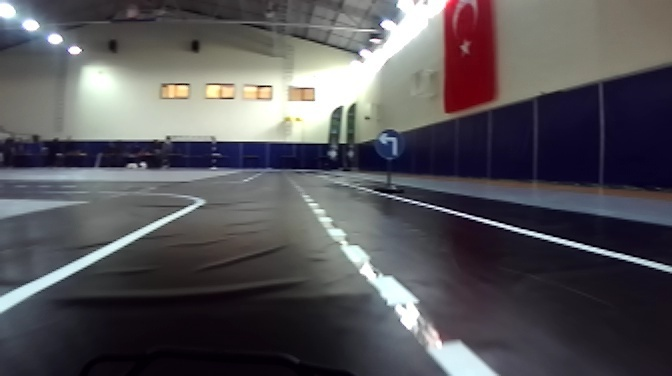sola_donus: (376, 128, 404, 161)
